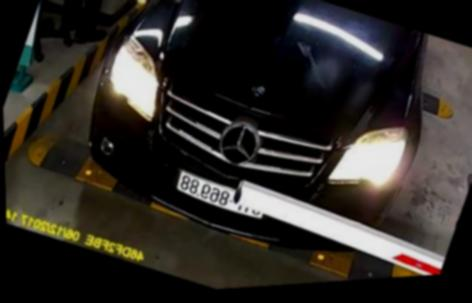License_Plate: (167, 161, 278, 227)
